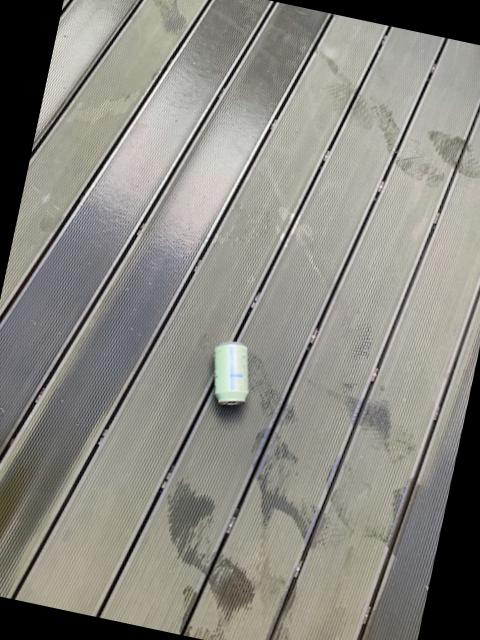metal: (214, 341, 248, 404)
